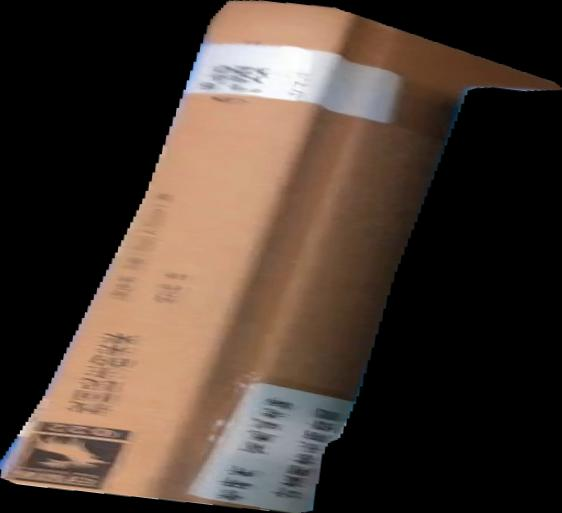reverse: (1, 1, 562, 513)
